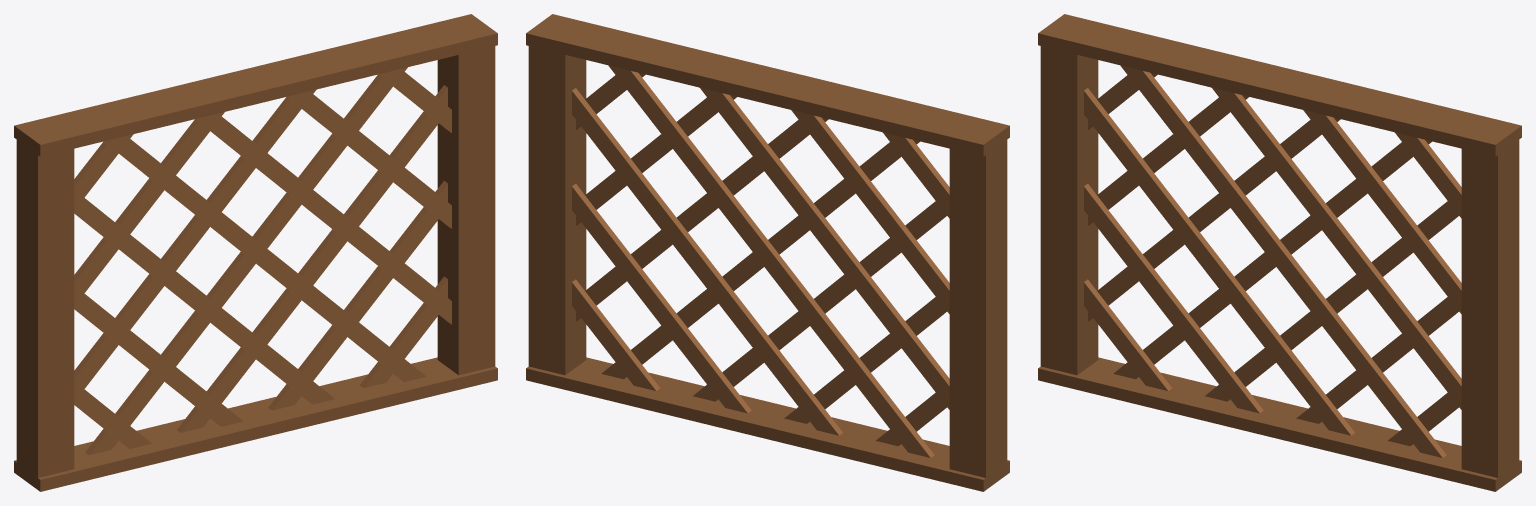
The model's file is Fence_14_Light_Brown.fbx.
3 views of the same model, side by side, from view 1: azimuth 30°, elevation 25°; view 2: azimuth 150°, elevation 25°; view 3: azimuth 330°, elevation 25° (orthographic).
Parts seen in each view (by area): view 1: Fence_14_Light_Brown; view 2: Fence_14_Light_Brown; view 3: Fence_14_Light_Brown.
Boxes of the visible parts, x1,y1,x2,y2 form: Fence_14_Light_Brown: (14, 14, 497, 491); Fence_14_Light_Brown: (526, 14, 1009, 491); Fence_14_Light_Brown: (1038, 14, 1521, 491).
Bounding box in the file's own units: 200 × 145 × 20.
